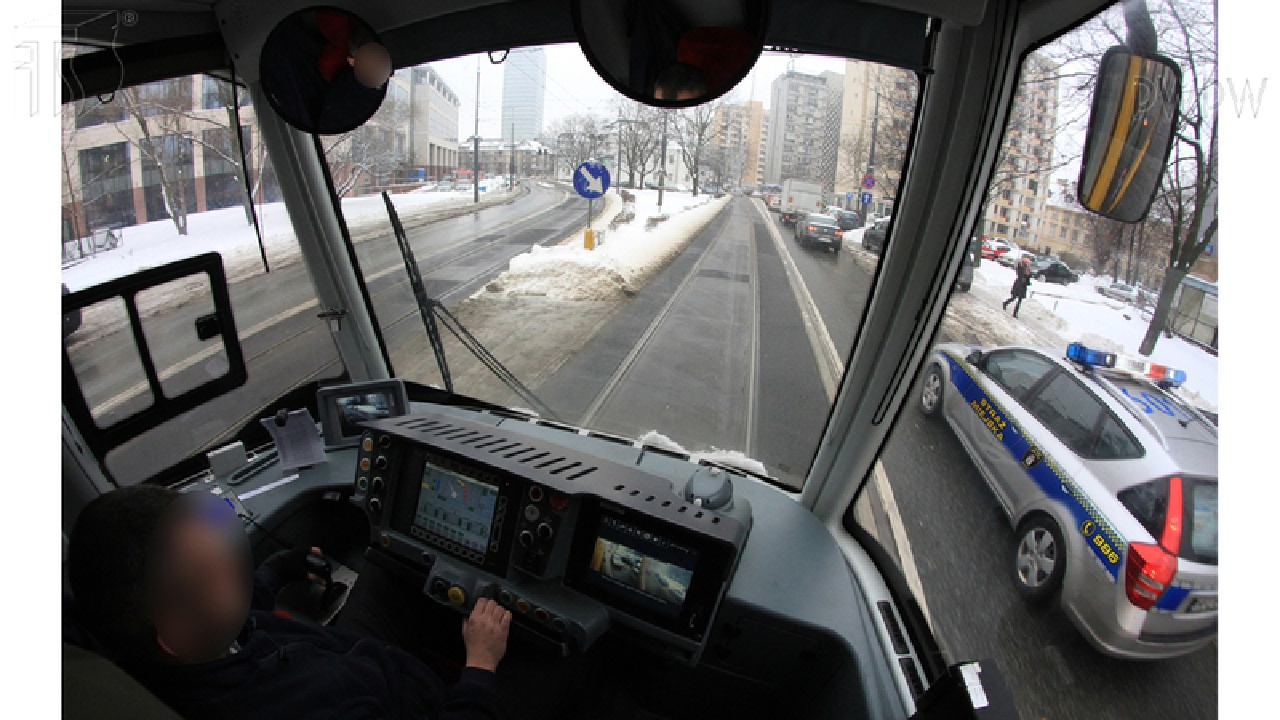C9: (572, 161, 611, 199)
